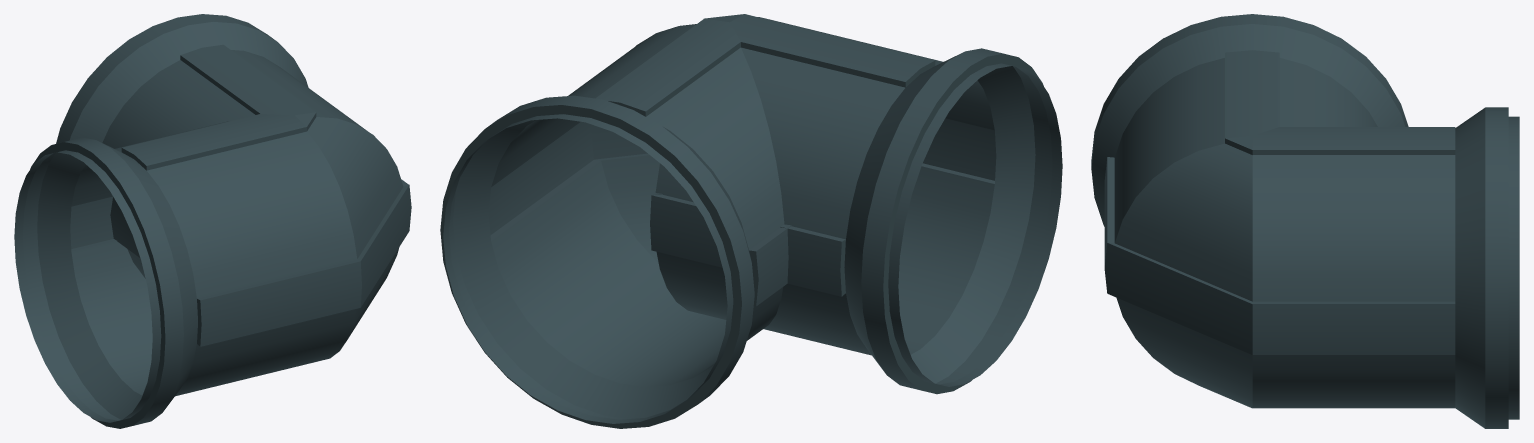
The model's file is tube_Corner.fbx.
3 views of the same model, side by side, from view 1: azimuth 30°, elevation 25°; view 2: azimuth 150°, elevation 25°; view 3: azimuth 270°, elevation 25° (orthographic). The views are drawn at different scales.
Parts seen in each view (by area): view 1: Tube_Corner; view 2: Tube_Corner; view 3: Tube_Corner.
Boxes of the visible parts, <box> form: Tube_Corner: <box>14,14,411,428</box>; Tube_Corner: <box>440,14,1062,428</box>; Tube_Corner: <box>1091,14,1519,428</box>.
Bounding box in the file's own units: 320 × 241 × 320.
